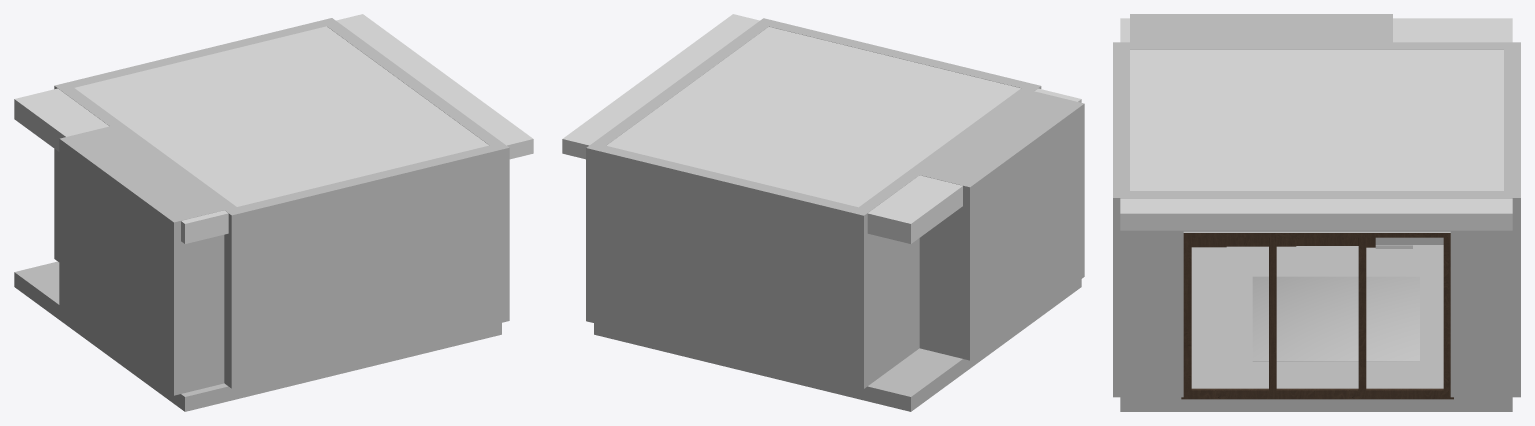
Rendered from bedroom_1.FBX.
The picture shows the model from 3 angles, left to right: view 1: azimuth 30°, elevation 25°; view 2: azimuth 150°, elevation 25°; view 3: azimuth 270°, elevation 25°; orthographic projection. The views are drawn at different scales.
Visible parts, largest first — view 1: unvisible_wall, unvisible_ceilling, unvisible_floor, floor, ceiling_1; view 2: unvisible_wall, unvisible_ceilling, unvisible_floor, floor, ceiling_1; view 3: unvisible_ceilling, unvisible_wall, floor, carpet, window_frame, unvisible_floor, cupboard_doors, walls.
Boxes of the visible parts, x1,y1,x2,y2 form: unvisible_wall: (54, 18, 509, 395); unvisible_ceilling: (14, 14, 533, 243); unvisible_floor: (14, 272, 501, 411); floor: (14, 261, 227, 396); ceiling_1: (185, 213, 228, 243); unvisible_wall: (586, 18, 1084, 388); unvisible_ceilling: (562, 14, 1081, 243); unvisible_floor: (594, 279, 1081, 411); floor: (868, 348, 962, 396); ceiling_1: (867, 213, 910, 243); unvisible_ceilling: (1120, 18, 1512, 230); unvisible_wall: (1113, 14, 1520, 397); floor: (1191, 245, 1443, 388); carpet: (1252, 276, 1419, 361); window_frame: (1181, 233, 1453, 399); unvisible_floor: (1120, 397, 1512, 411); cupboard_doors: (1191, 237, 1358, 247); walls: (1130, 49, 1503, 245).
Size of the model in its own units: 704 by 356 by 609.
